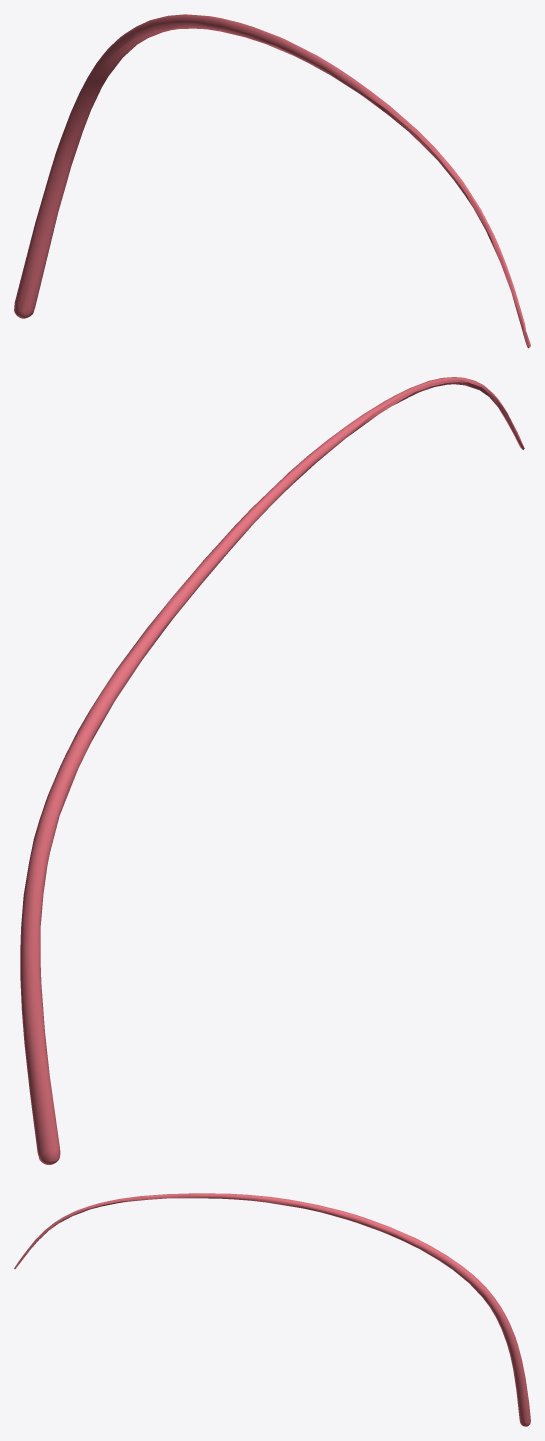
Rendered from fma50672_fj1727.glb.
The picture shows the model from 3 angles, top to bottom: view 1: azimuth 30°, elevation 25°; view 2: azimuth 150°, elevation 25°; view 3: azimuth 270°, elevation 25°; orthographic projection. The views are drawn at different scales.
Visible parts, largest first — view 1: FMA50672_FJ1727; view 2: FMA50672_FJ1727; view 3: FMA50672_FJ1727.
Part boxes in pixels (x1=…): FMA50672_FJ1727: x1=14, y1=14, x2=530, y2=348; FMA50672_FJ1727: x1=20, y1=377, x2=524, y2=1164; FMA50672_FJ1727: x1=14, y1=1193, x2=530, y2=1426.
Bounding box in the file's own units: 0.00311 × 0.0227 × 0.044.
